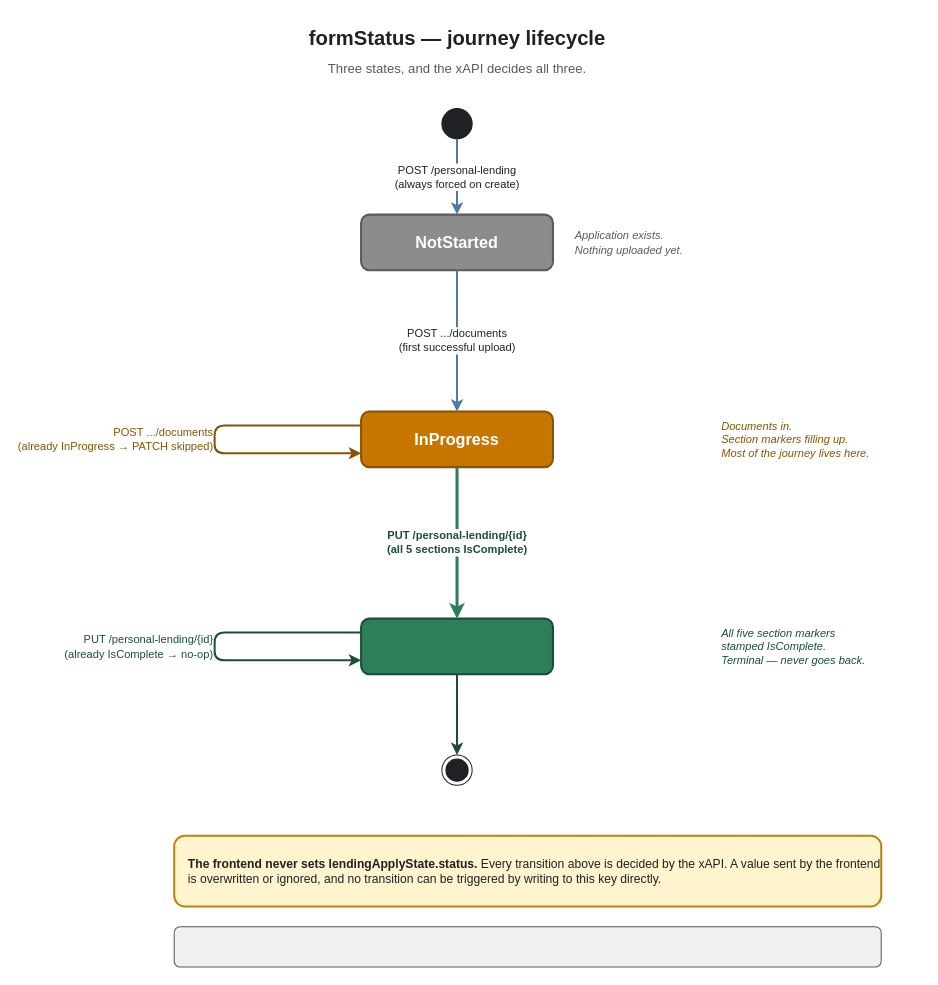
Image size: 938x985. Some labels were removed from this diagram. Here are the shapes that lost their labels. From the top down, the centre of each, then its label:
pixel 456 646: IsComplete
pixel 527 946: Wire values are case sensitive: "NotStarted" | "InProgress" | "IsComplete"
